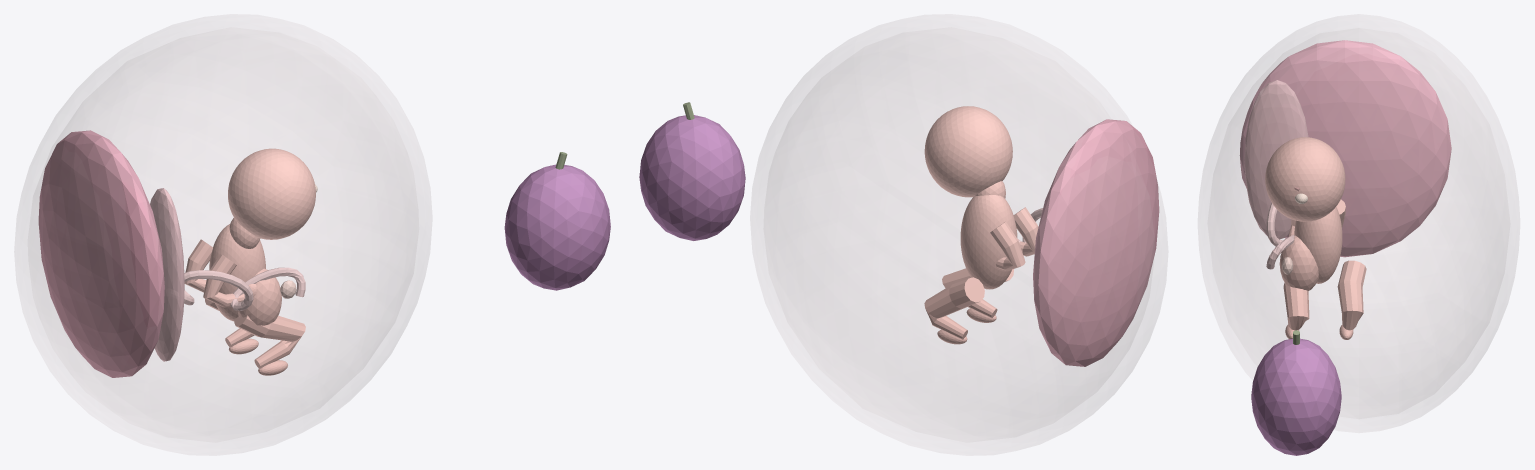
File: hafta_11.glb
The picture shows the model from 3 angles, left to right: view 1: azimuth 30°, elevation 25°; view 2: azimuth 150°, elevation 25°; view 3: azimuth 270°, elevation 25°; orthographic projection. The views are drawn at different scales.
Visible parts, largest first — view 1: Gebelik_kesesi_dis_zar_17, Plasenta_gelisen_doku_19, Meyve_İncir_21, Bas_1, Plasenta_yumusak_yuzey_20, Gogus_govde_2, Bacak_on_13, Gobek_kordonu_ogretici_16, Gobel_ve_karin_3, Kol_on_9, Kol_on_arka_7; view 2: Gebelik_kesesi_dis_zar_17, Plasenta_gelisen_doku_19, Meyve_İncir_21, Bas_1, Gogus_govde_2, Bacak_arka_11, Kol_on_arka_7, Kol_on_9, Bacak_on_13; view 3: Gebelik_kesesi_dis_zar_17, Plasenta_gelisen_doku_19, Meyve_İncir_21, Bas_1, Plasenta_yumusak_yuzey_20, Gogus_govde_2, Bacak_arka_11, Gobel_ve_karin_3, Bacak_on_13, Gobek_kordonu_ogretici_16.
Part boxes in pixels (box(x1,y1,x2,y2)): Gebelik_kesesi_dis_zar_17: box(14, 14, 431, 455); Plasenta_gelisen_doku_19: box(38, 130, 164, 377); Meyve_İncir_21: box(504, 164, 610, 290); Bas_1: box(228, 148, 315, 239); Plasenta_yumusak_yuzey_20: box(150, 188, 184, 361); Gogus_govde_2: box(209, 224, 265, 321); Bacak_on_13: box(234, 315, 305, 368); Gobek_kordonu_ogretici_16: box(184, 267, 305, 310); Gobel_ve_karin_3: box(238, 268, 281, 325); Kol_on_9: box(203, 254, 244, 307); Kol_on_arka_7: box(184, 239, 212, 292); Gebelik_kesesi_dis_zar_17: box(750, 14, 1167, 455); Plasenta_gelisen_doku_19: box(1033, 119, 1159, 366); Meyve_İncir_21: box(639, 115, 745, 240); Bas_1: box(924, 106, 1012, 197); Gogus_govde_2: box(960, 195, 1017, 289); Bacak_arka_11: box(924, 277, 984, 339); Kol_on_arka_7: box(990, 221, 1025, 270); Kol_on_9: box(1013, 207, 1038, 256); Bacak_on_13: box(942, 268, 1013, 317); Gebelik_kesesi_dis_zar_17: box(1198, 14, 1519, 432); Plasenta_gelisen_doku_19: box(1239, 40, 1451, 257); Meyve_İncir_21: box(1251, 338, 1341, 455); Bas_1: box(1265, 137, 1345, 221); Plasenta_yumusak_yuzey_20: box(1244, 80, 1308, 239); Gogus_govde_2: box(1294, 207, 1342, 283); Bacak_arka_11: box(1337, 260, 1366, 330); Gobel_ve_karin_3: box(1279, 235, 1318, 290); Bacak_on_13: box(1283, 283, 1309, 330); Gobek_kordonu_ogretici_16: box(1266, 203, 1294, 269).
Size of the model in its own units: 11.03 by 8.1 by 6.2.
